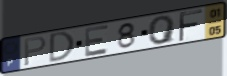8: (116, 22, 136, 50)
D: (48, 30, 76, 65)
E: (84, 23, 111, 59)
F: (177, 9, 205, 44)
P: (23, 35, 48, 68)
Q: (147, 14, 177, 46)
